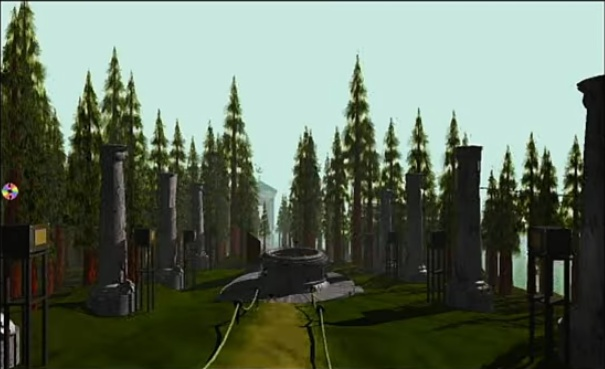Waiting: (0, 180, 21, 201)
